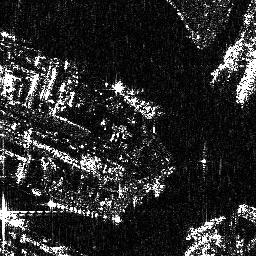ship: (112, 77, 154, 118), (185, 215, 226, 240), (235, 59, 256, 106), (1, 205, 31, 232)
